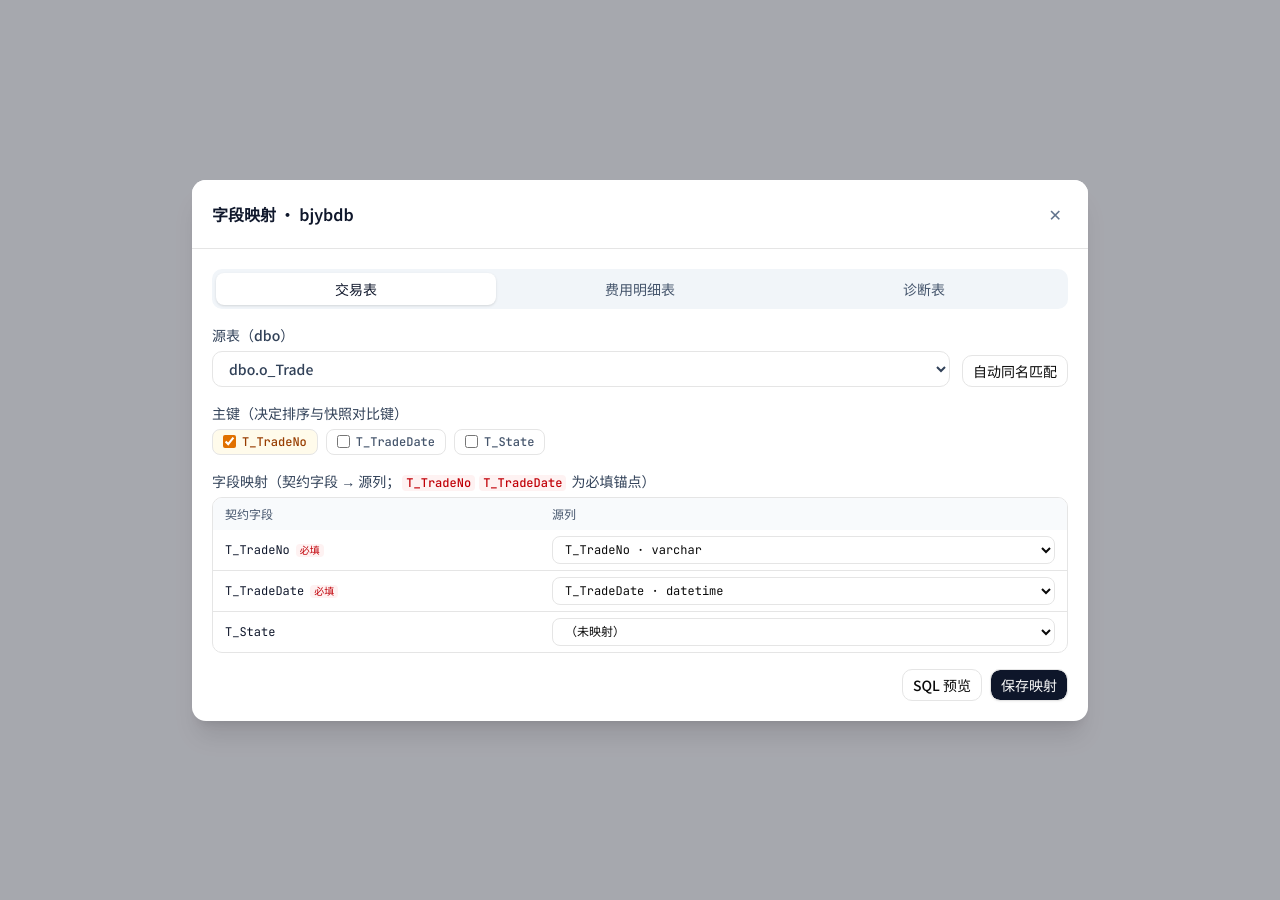
字段映射弹窗 › SQL 预览展示实际执行 SQL
expect the button "保存映射" is shown: met, box [990,668,1068,700]
Click the button "SQL 预览" at (942, 684), box [902,668,982,700]
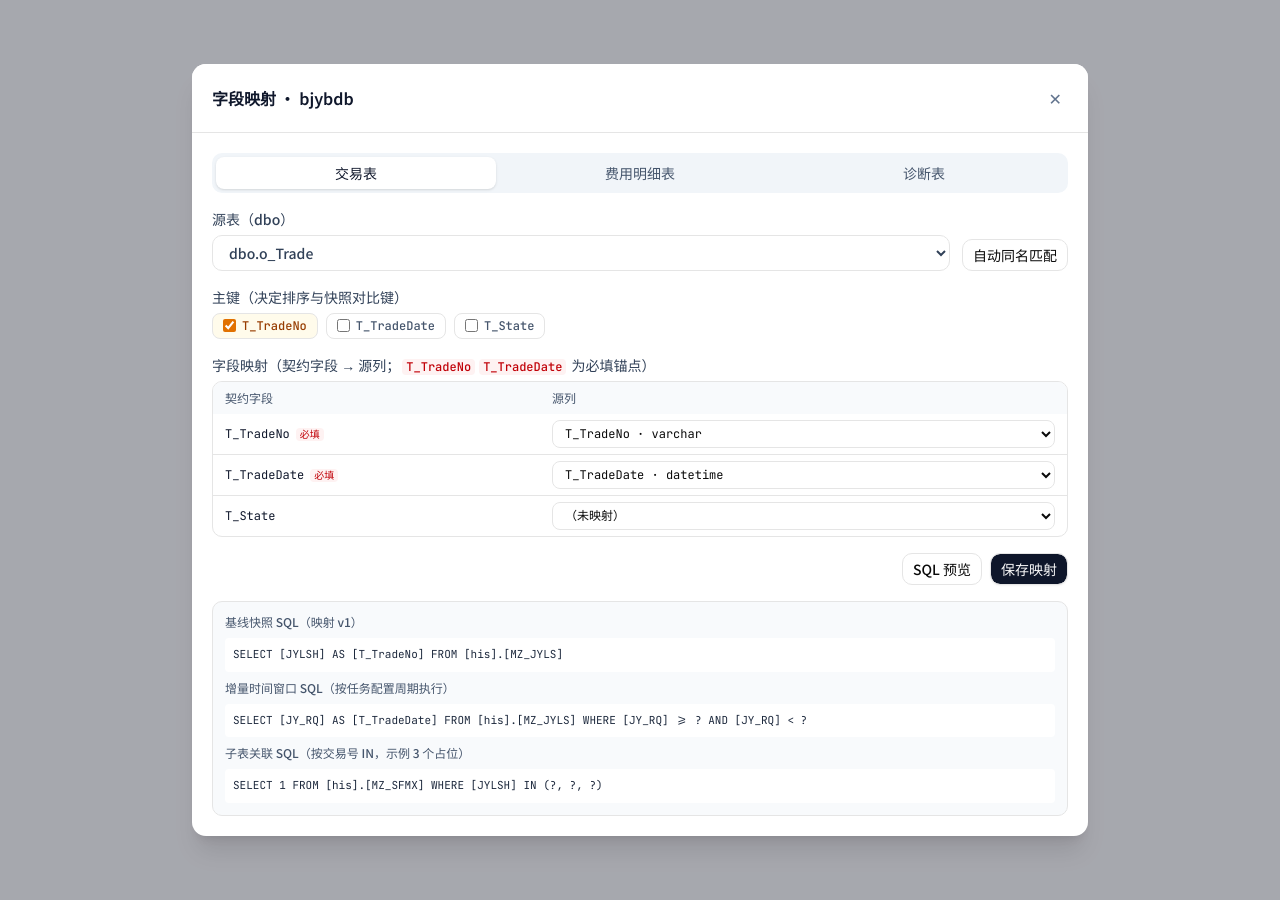
expect the text "SELECT [JYLSH] AS [T_TradeNo] FROM [his].[MZ_JYLS]" is shown: met, box [225,638,1055,672]
expect the text "WHERE [JY_RQ] >= ? AND [JY_RQ] < ?" is shown: met, box [233,713,807,727]
